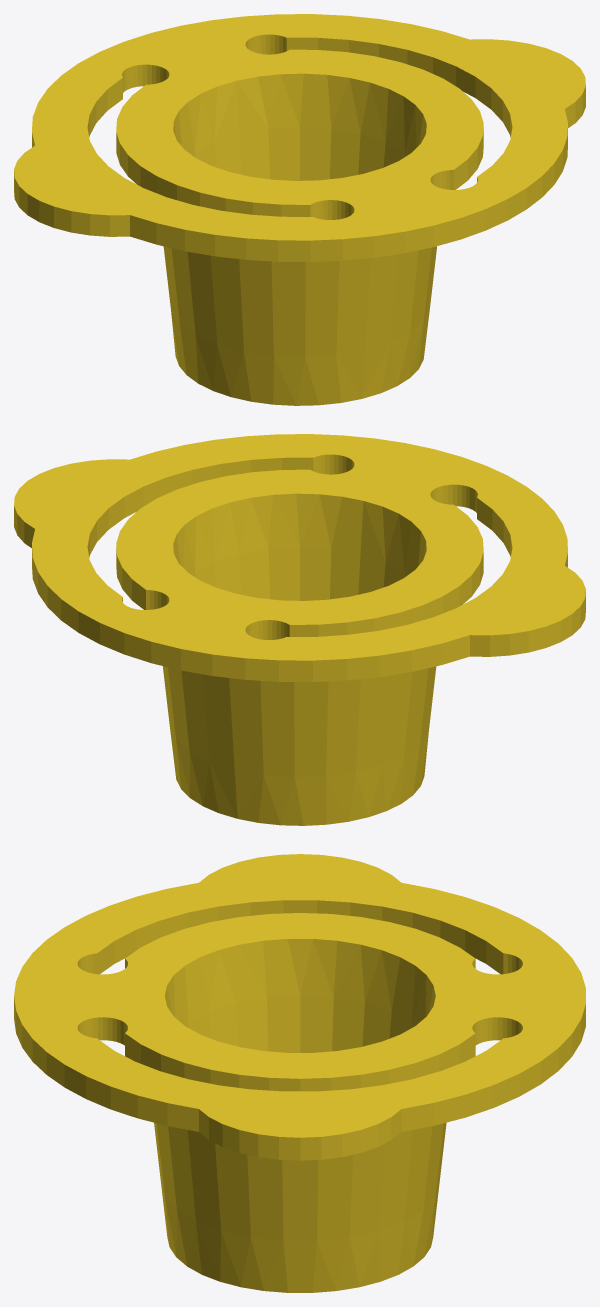
3 renders of one model, top to bottom at view 1: azimuth 30°, elevation 25°; view 2: azimuth 150°, elevation 25°; view 3: azimuth 270°, elevation 25°, orthographic. The views are drawn at different scales.
Parts seen in each view (by area): view 1: 10287439; view 2: 10287439; view 3: 10287439.
Part boxes in pixels (x1=…): 10287439: x1=14, y1=14, x2=585, y2=405; 10287439: x1=14, y1=434, x2=585, y2=825; 10287439: x1=14, y1=854, x2=585, y2=1292.
Size of the model in its own units: 1 by 0.3962 by 0.852.
